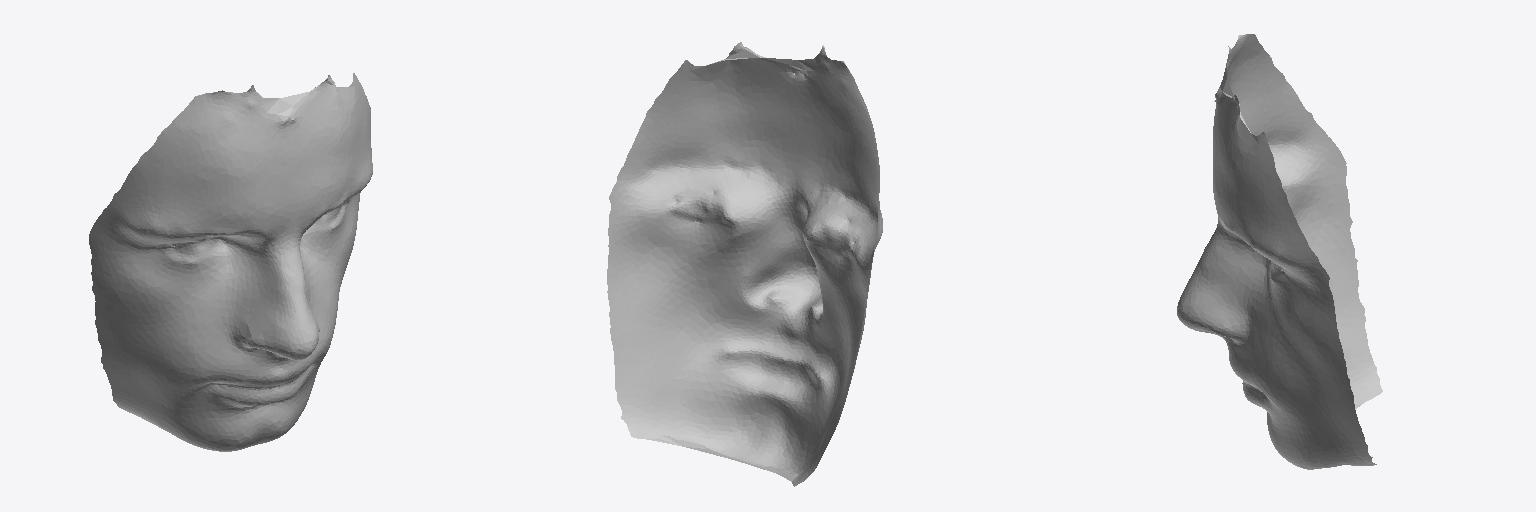
Rendered from average_face.obj.
3 renders of one model, left to right at view 1: azimuth 30°, elevation 25°; view 2: azimuth 150°, elevation 25°; view 3: azimuth 270°, elevation 25°, orthographic.
Size of the model in its own units: 139 by 196 by 92.12.